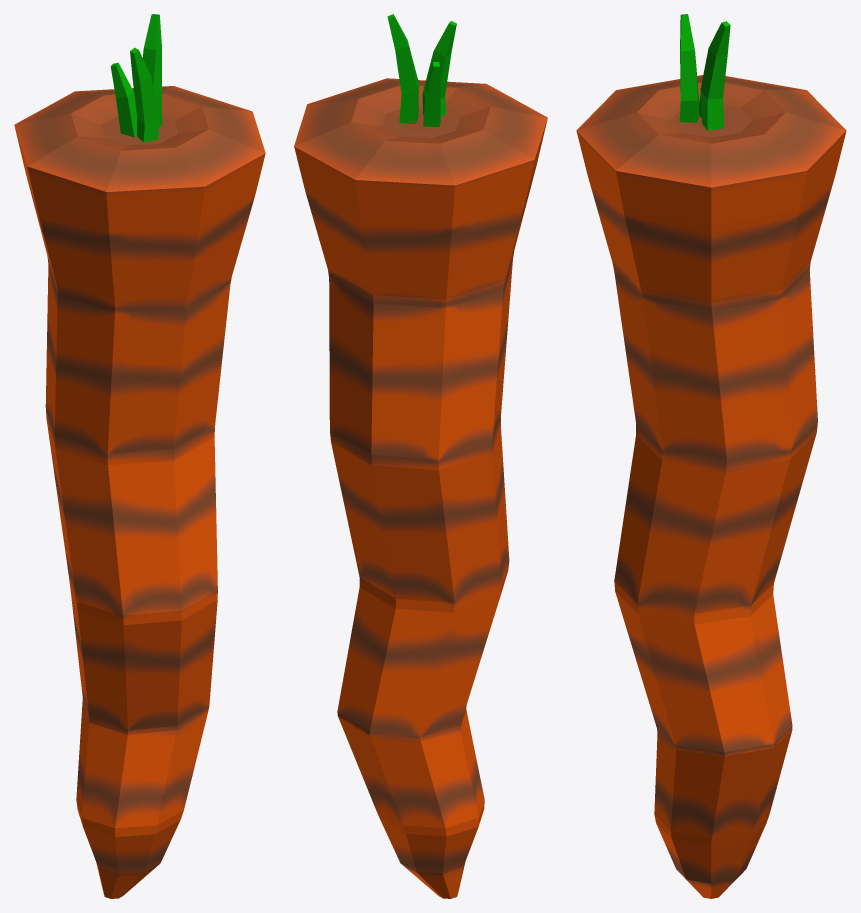
File: Carrot.fbx
The picture shows the model from 3 angles, left to right: view 1: azimuth 30°, elevation 25°; view 2: azimuth 150°, elevation 25°; view 3: azimuth 270°, elevation 25°; orthographic projection. The views are drawn at different scales.
Parts seen in each view (by area): view 1: Carrot; view 2: Carrot; view 3: Carrot.
Boxes of the visible parts, bbox=[...] form: Carrot: bbox=[14, 14, 265, 898]; Carrot: bbox=[294, 14, 547, 898]; Carrot: bbox=[576, 14, 846, 898].
Size of the model in its own units: 96.97 by 355 by 96.97.
